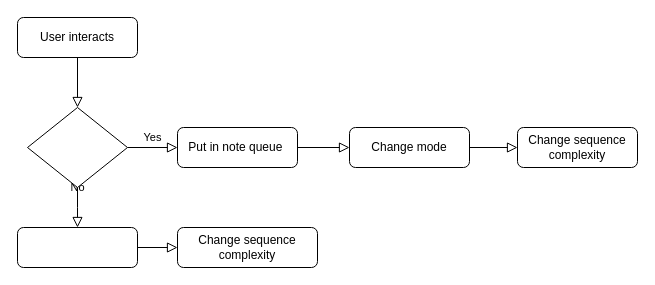
The diagram is 655 pixels wide and 285 high, and some of its shapes have lost their labels. Each missing label, with the centre of its shape:
"Is a melody?" goes at [77,147].
"Put in percussion queue" goes at [77,247].
